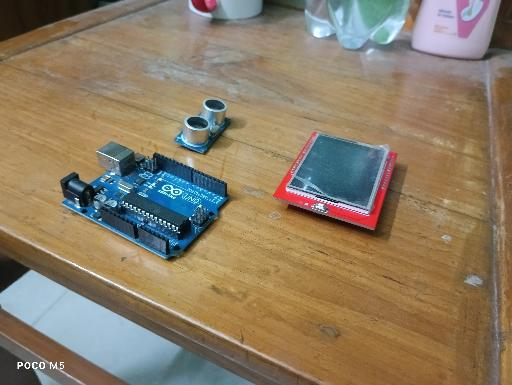Arduino: (59, 141, 231, 262)
Display: (272, 131, 398, 233)
sensor: (173, 97, 232, 156)
